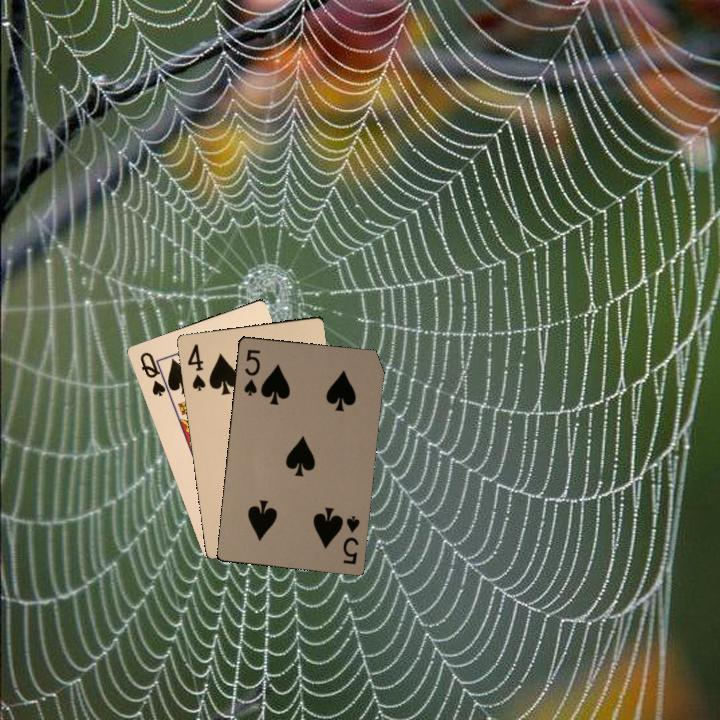4s: (183, 340, 208, 394)
5s: (339, 511, 364, 567), (240, 345, 263, 398)
Qs: (136, 348, 173, 399)
